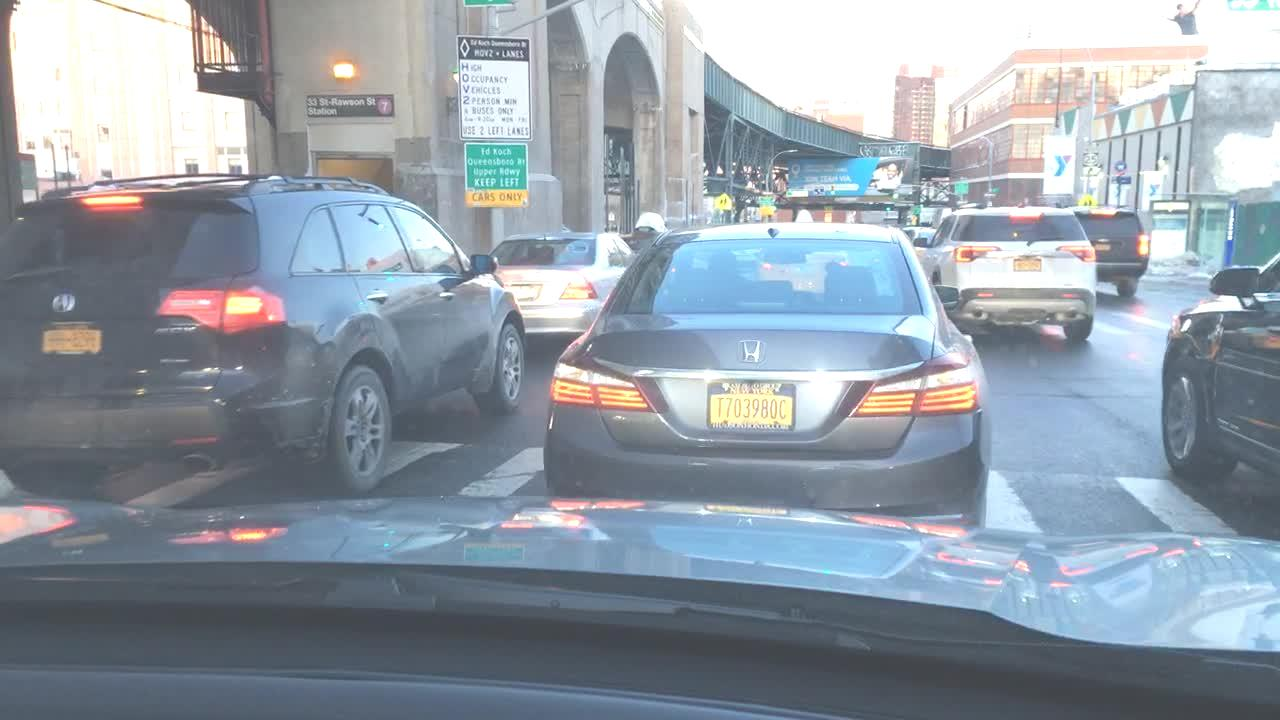Honda: (737, 326, 775, 370)
acura: (50, 286, 79, 319)
